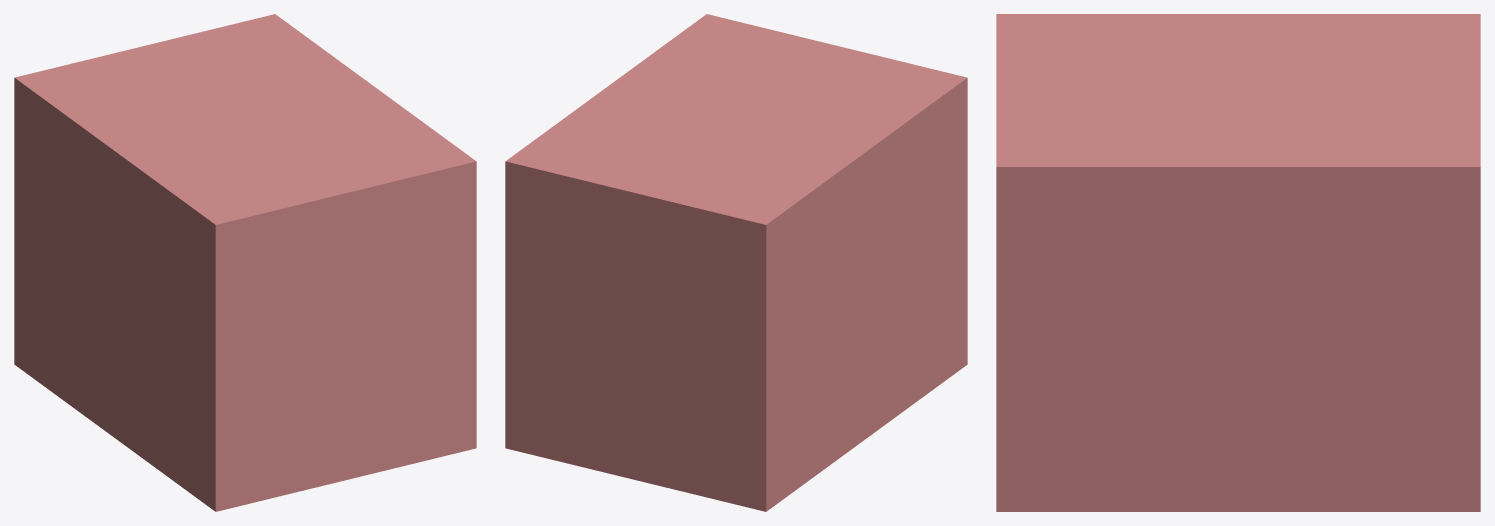
Rendered from 199508_occ.glb.
The picture shows the model from 3 angles, left to right: view 1: azimuth 30°, elevation 25°; view 2: azimuth 150°, elevation 25°; view 3: azimuth 270°, elevation 25°; orthographic projection. The views are drawn at different scales.
Visible parts, largest first — view 1: world; view 2: world; view 3: world.
Part boxes in pixels (<box>): world: <box>14,14,476,511</box>; world: <box>505,14,967,511</box>; world: <box>996,14,1480,511</box>.
Bounding box in the file's own units: 4.91 × 5.16 × 6.56.
